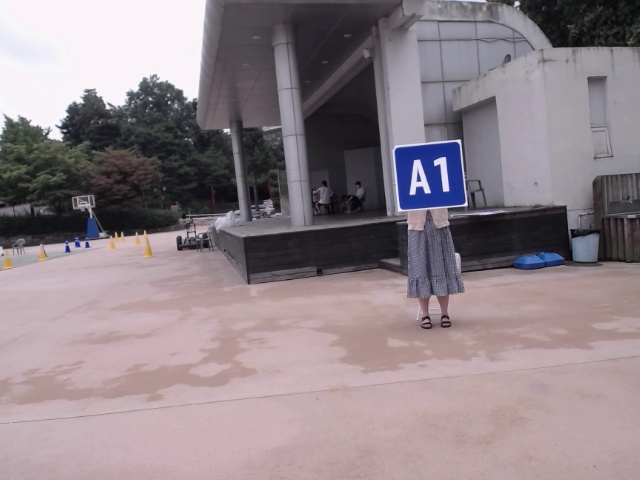delivery_a1: (394, 139, 467, 211)
